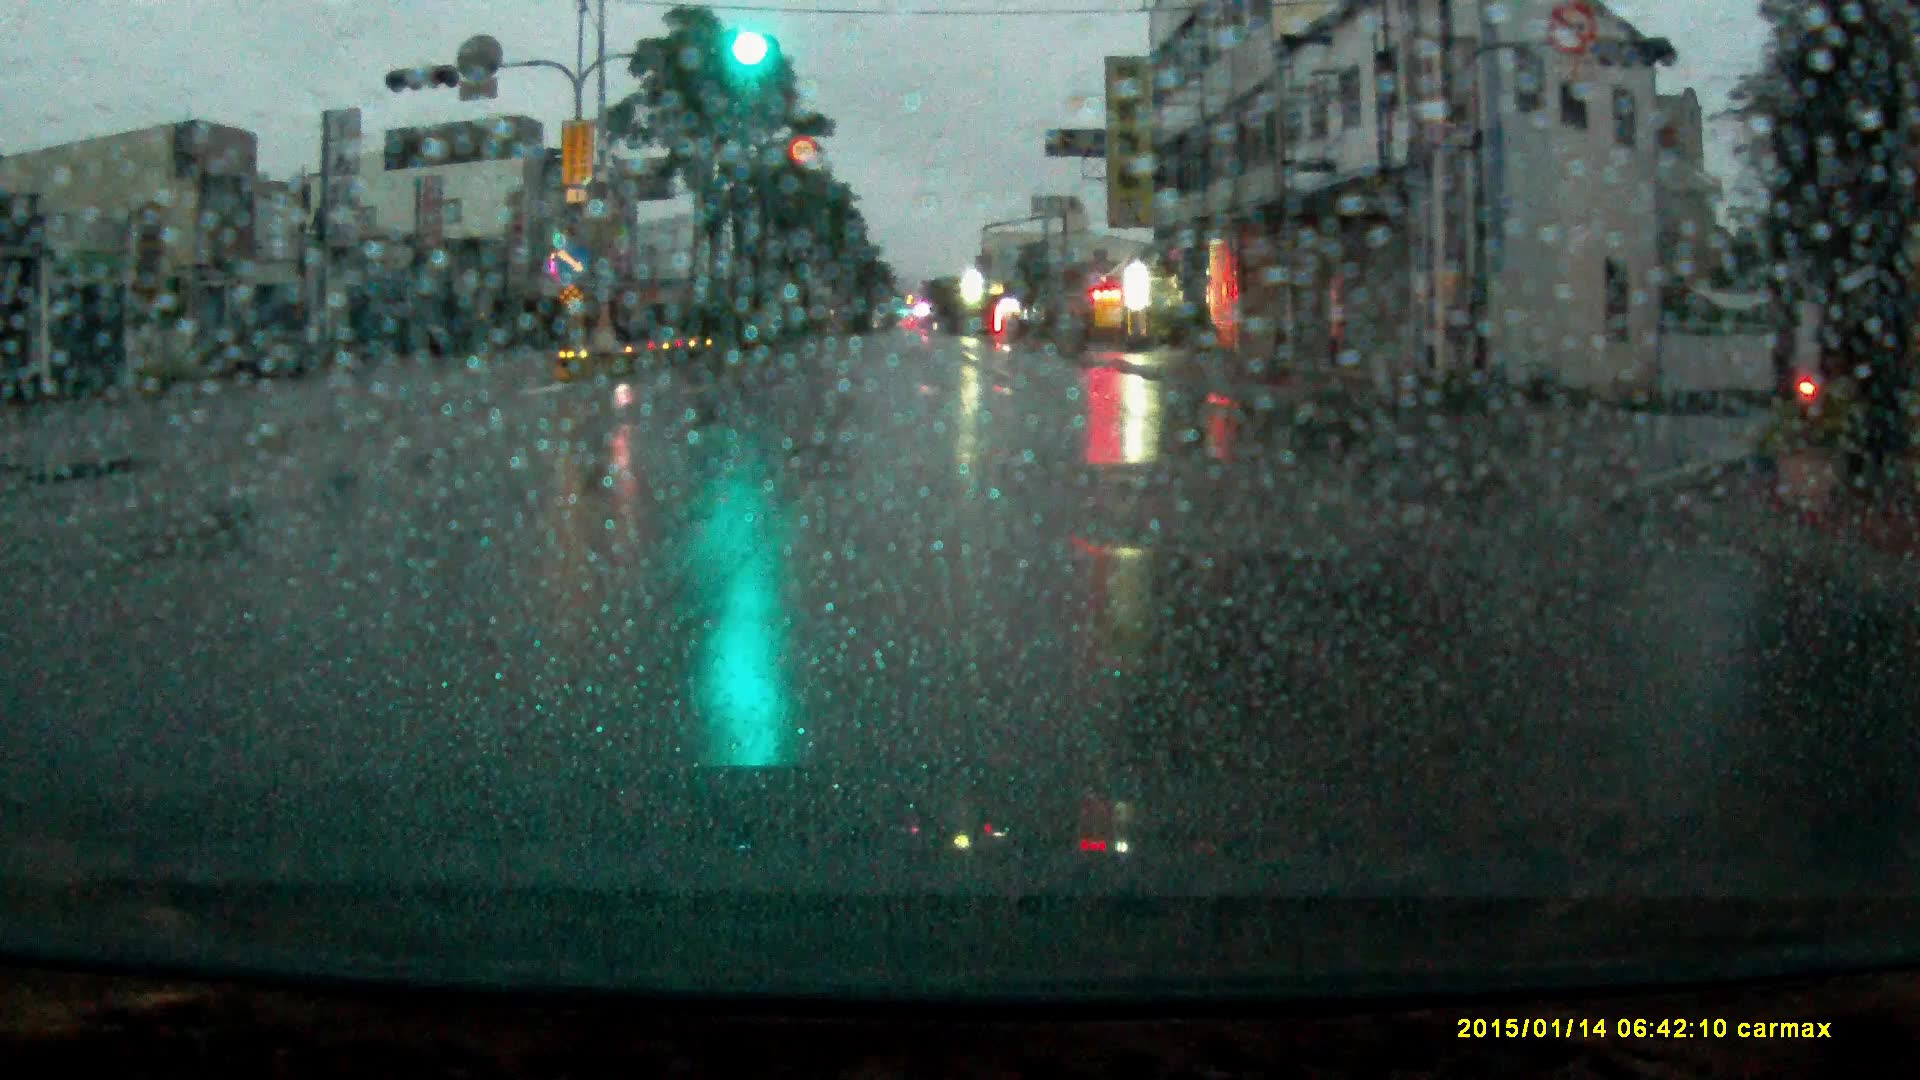rider: (1793, 315, 1858, 424)
